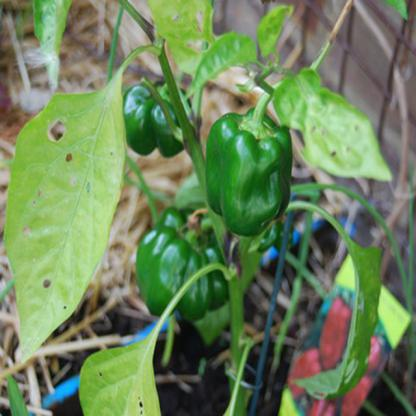Bell_pepper leaf: (8, 81, 128, 349)
